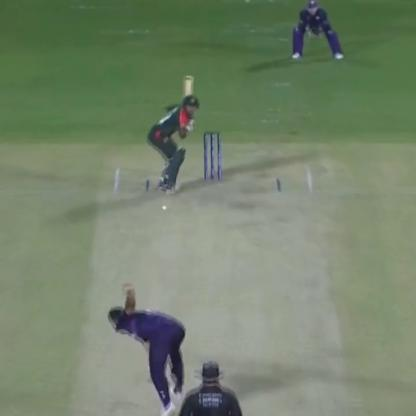ball: (156, 199, 170, 217)
bat: (182, 61, 196, 128)
pitch: (82, 159, 355, 416)
